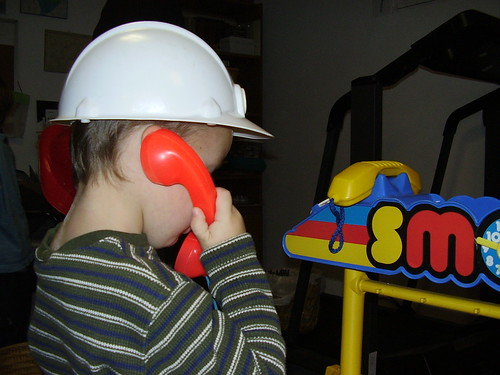person hardhat: (37, 19, 306, 369)
